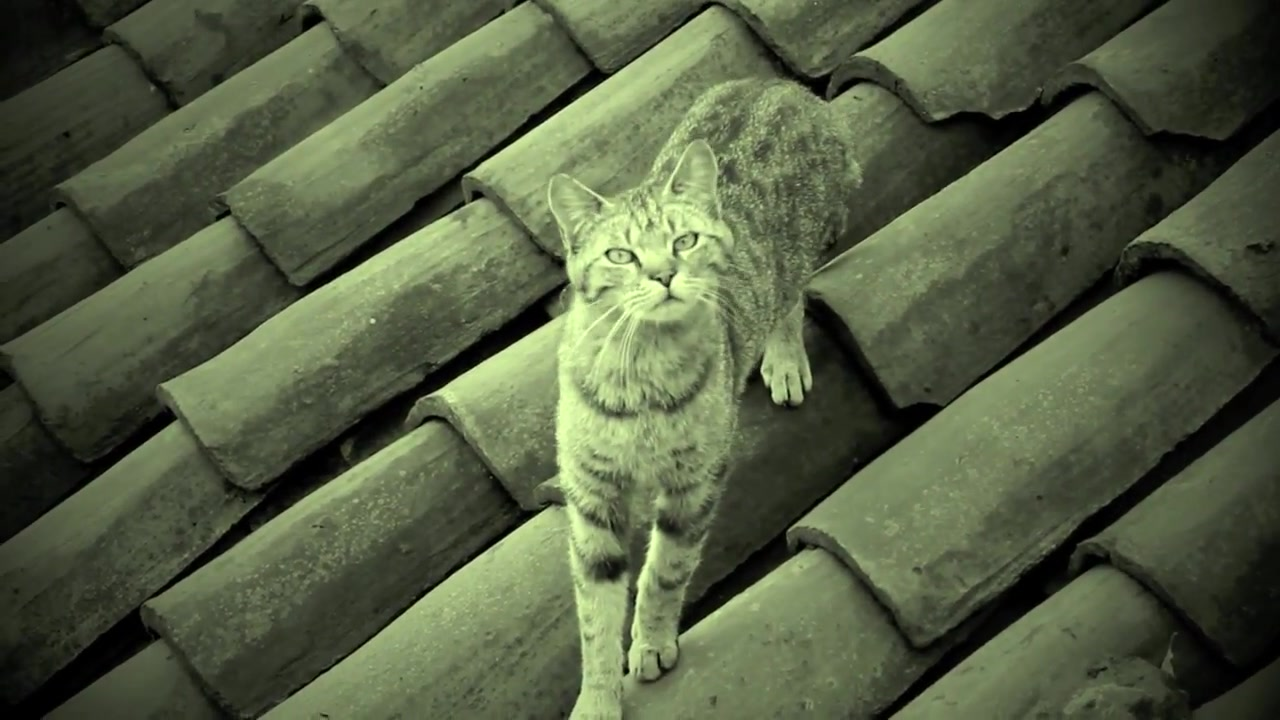cat: (547, 74, 864, 720)
